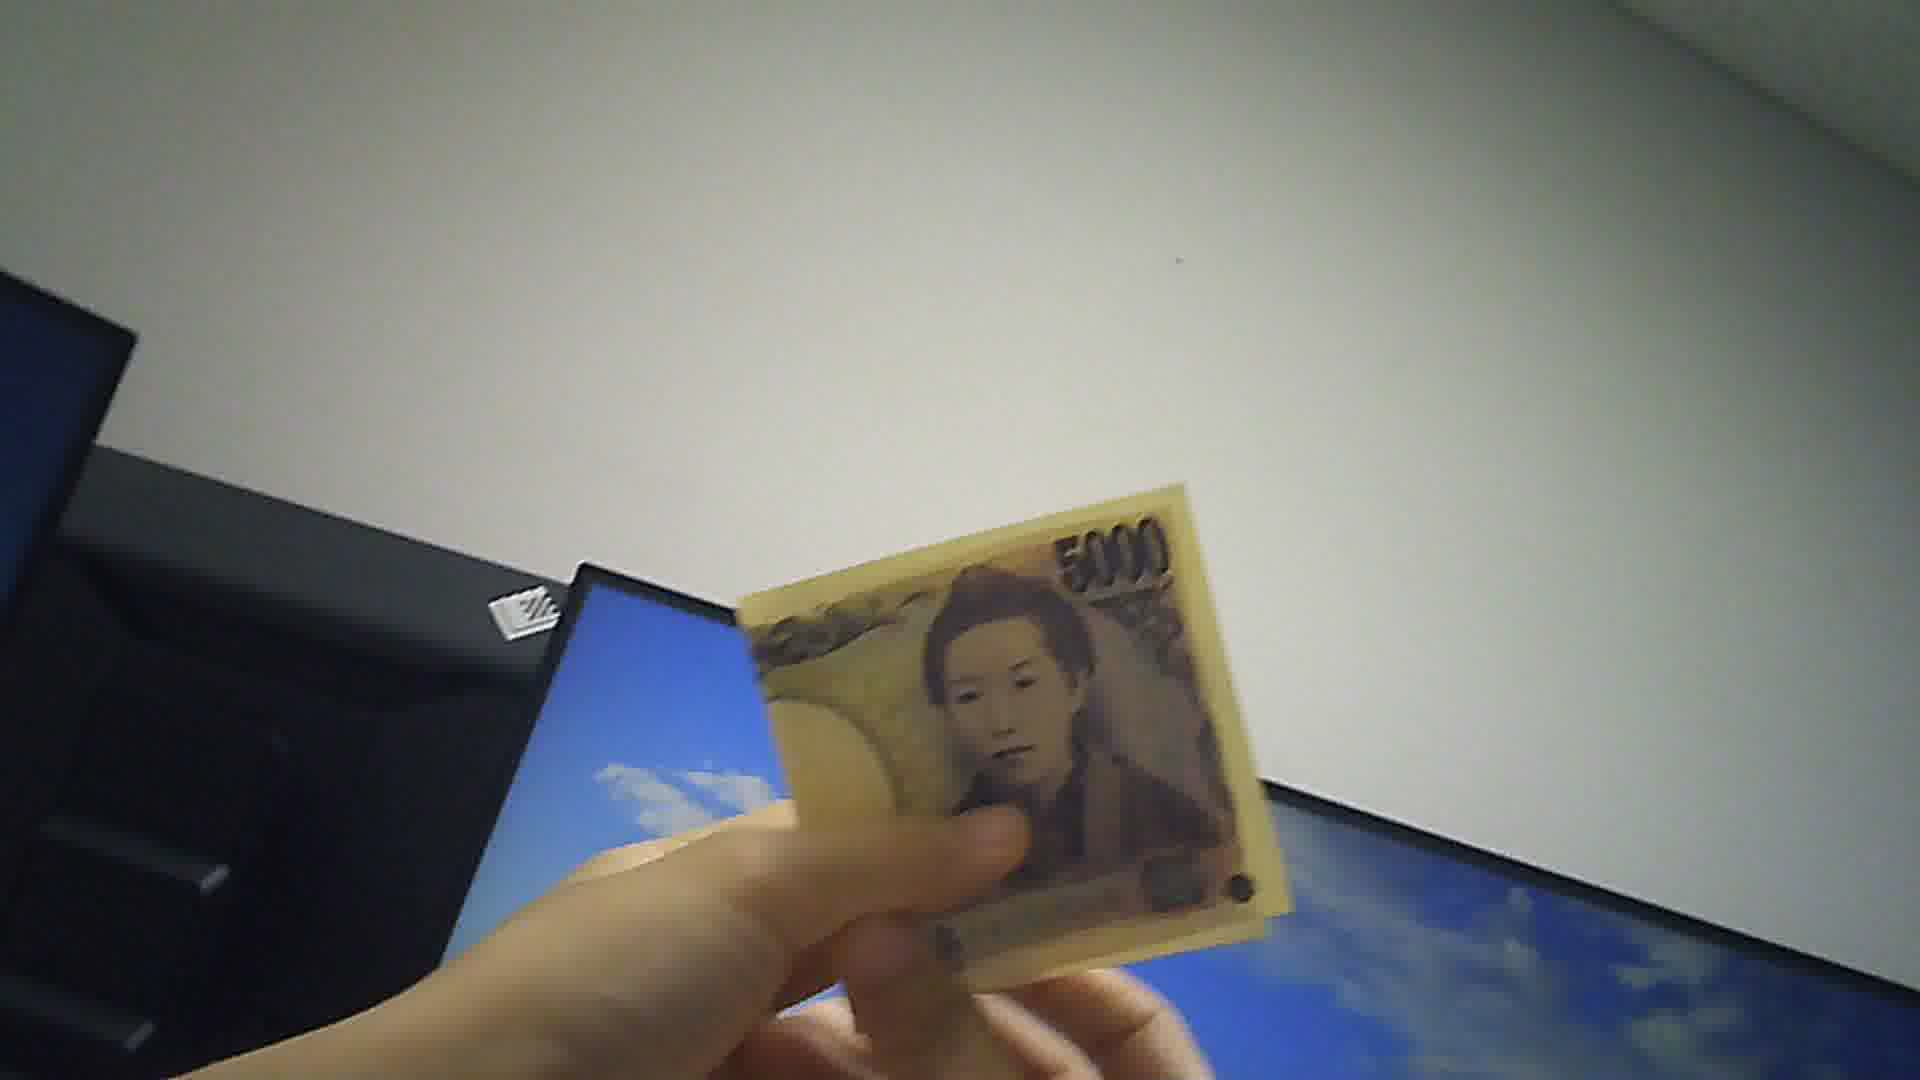5,000 Yen: (742, 477, 1327, 1006)
